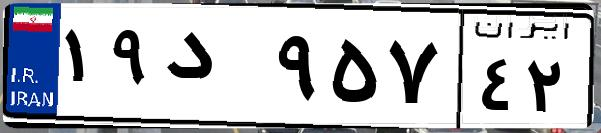1: (57, 26, 110, 100)
2: (525, 38, 570, 115)
4: (475, 38, 525, 113)
5: (330, 28, 385, 110)
7: (385, 28, 445, 110)
9: (270, 28, 330, 110), (110, 28, 158, 98)
د: (158, 20, 270, 120)
